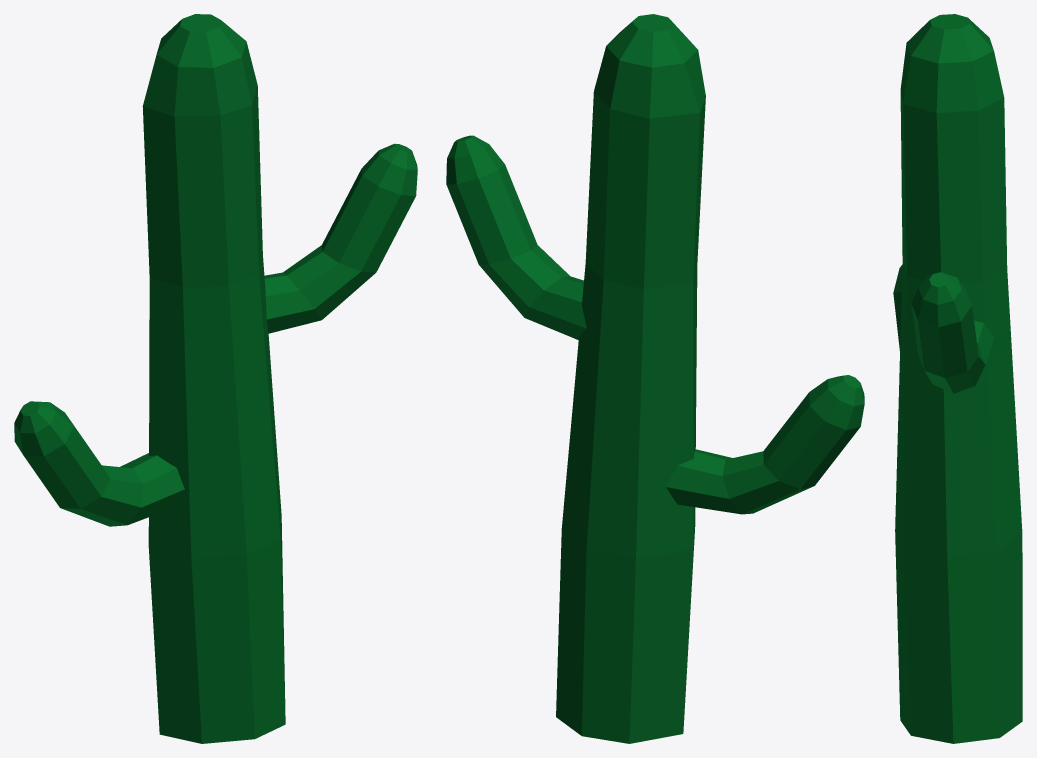
Rendered from Cactus_3.fbx.
3 renders of one model, left to right at view 1: azimuth 30°, elevation 25°; view 2: azimuth 150°, elevation 25°; view 3: azimuth 270°, elevation 25°, orthographic. The views are drawn at different scales.
Parts seen in each view (by area): view 1: Cactus_3; view 2: Cactus_3; view 3: Cactus_3.
Boxes of the visible parts, x1,y1,x2,y2 form: Cactus_3: [14, 14, 417, 743]; Cactus_3: [446, 14, 864, 743]; Cactus_3: [893, 14, 1022, 743].
Size of the model in its own units: 160 by 45.19 by 265.
